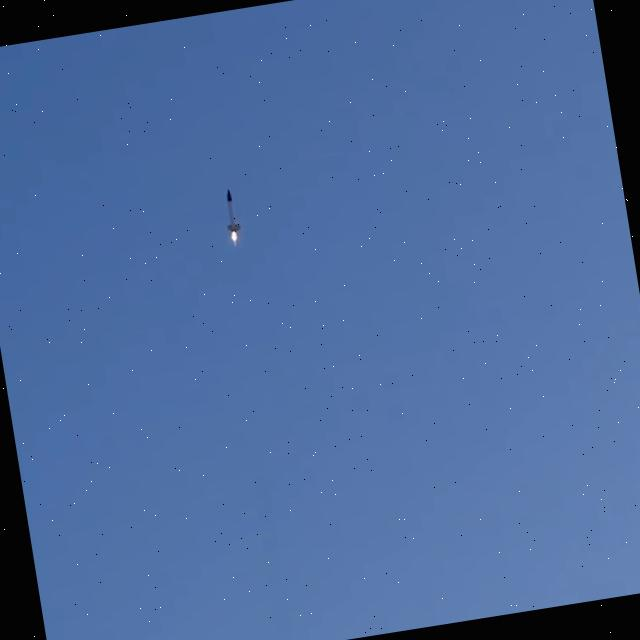rocket: (225, 189, 241, 245)
